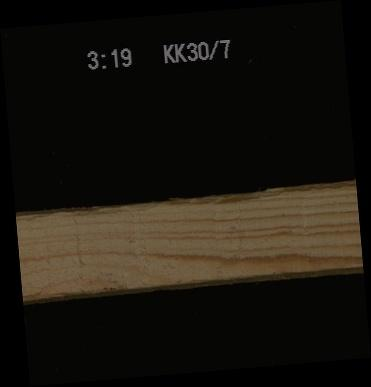wave: (15, 185, 356, 214), (26, 277, 120, 300)
